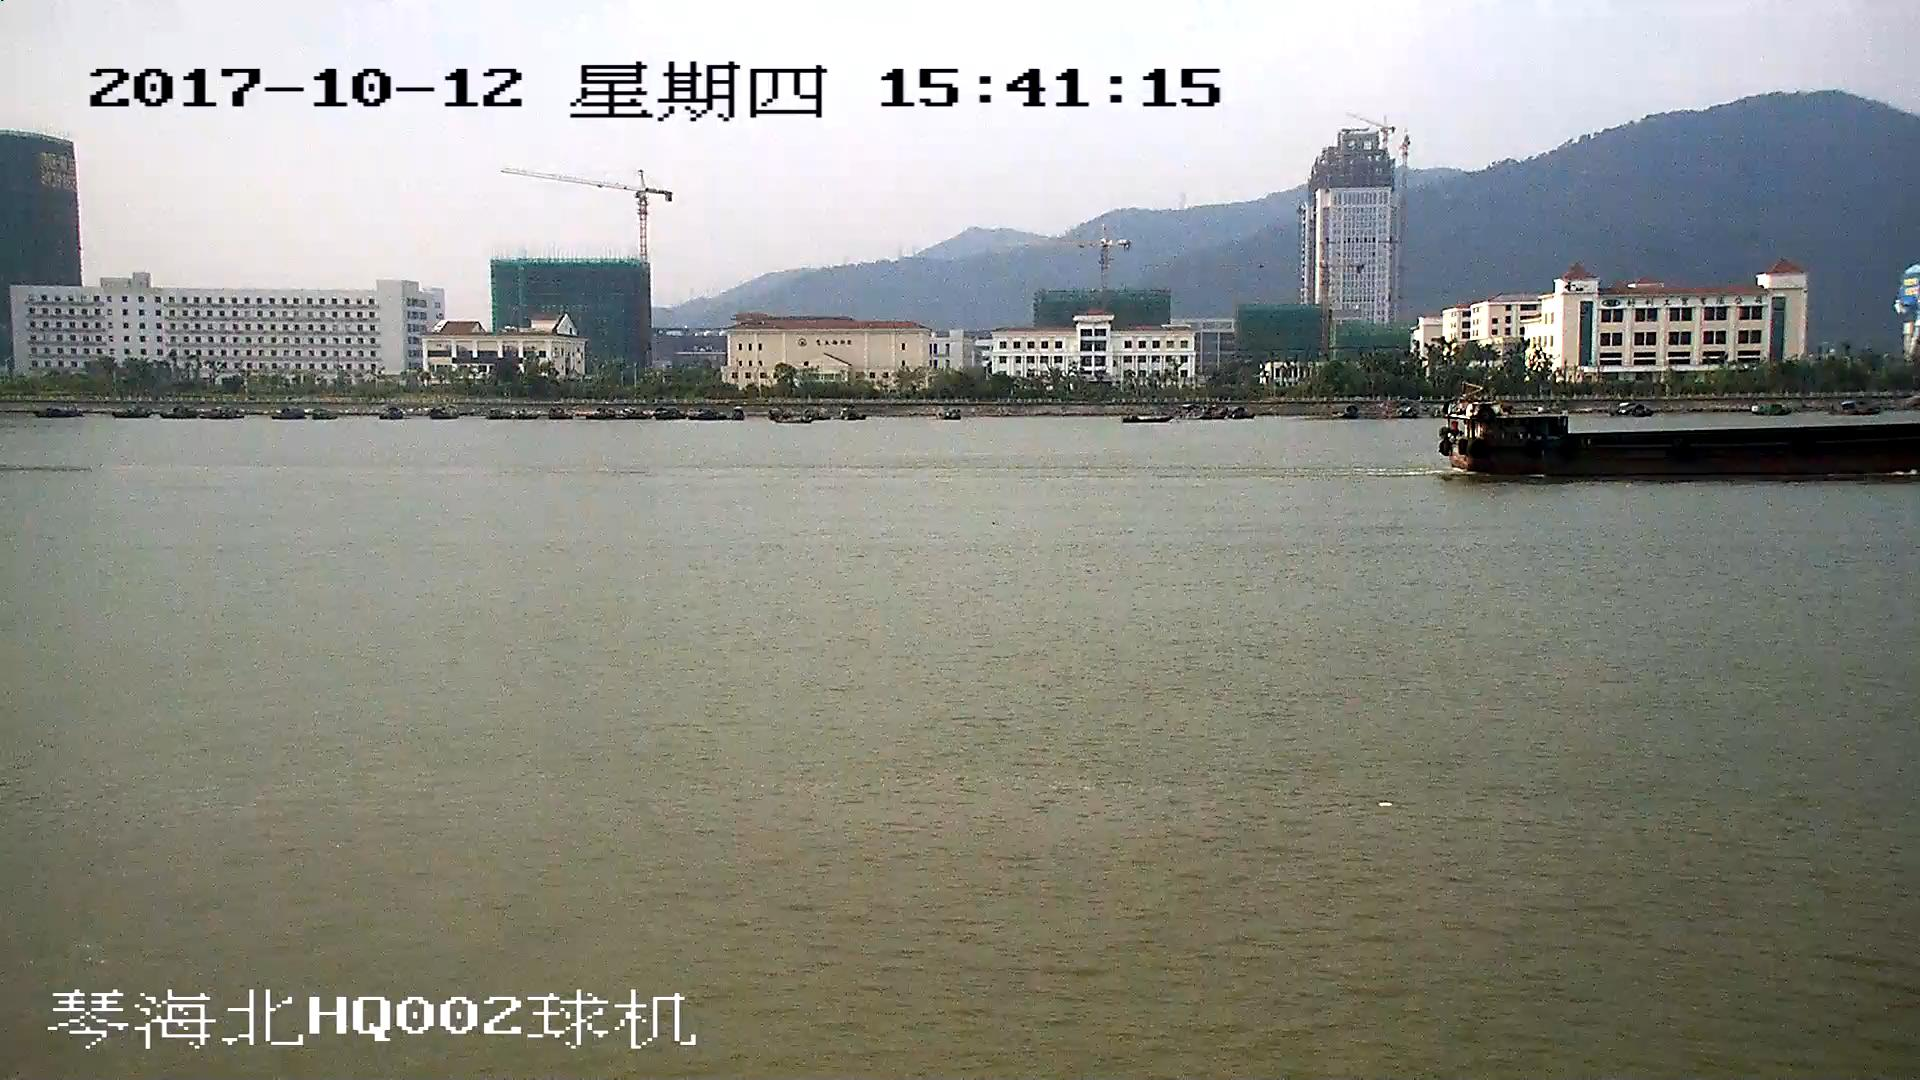general cargo ship: (1435, 399, 1920, 486)
